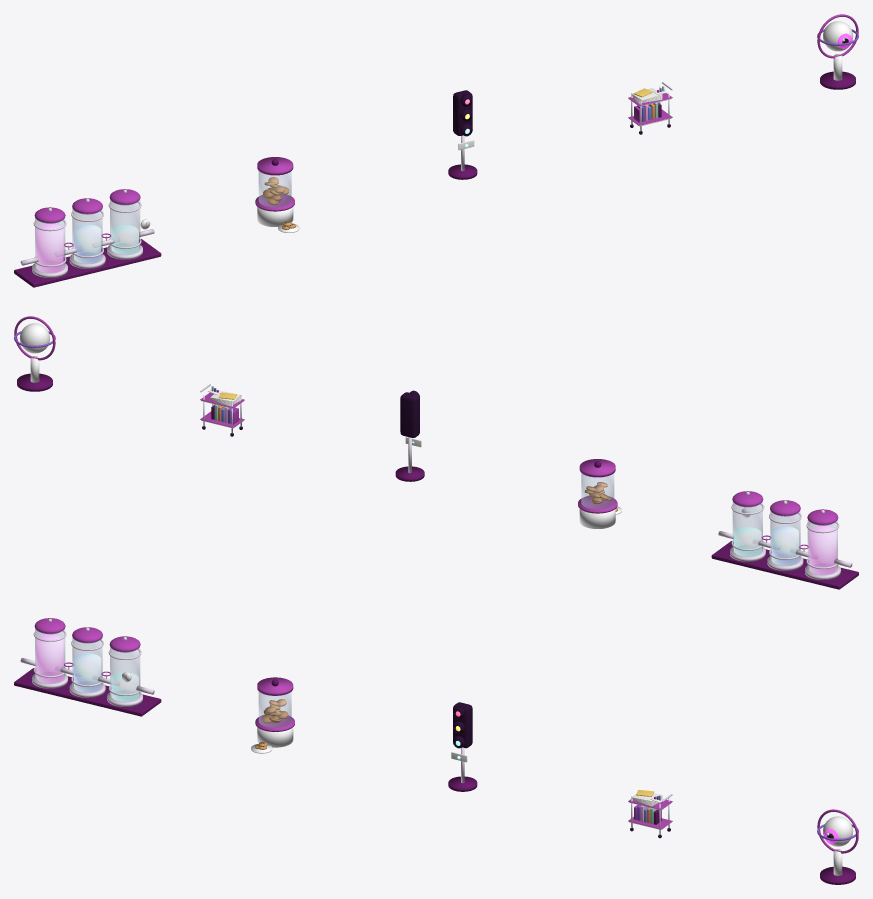
Rendered from data_b.glb.
The picture shows the model from 3 angles, top to bottom: view 1: azimuth 30°, elevation 25°; view 2: azimuth 150°, elevation 25°; view 3: azimuth 330°, elevation 25°; orthographic projection.
Parts seen in each view (by area): view 1: Skid, Tank2, Tank1, Tank0, Fill0, Jar, Fill1, Fill2, Eyeball, Pedestal, Lid, Housing; view 2: Skid, Tank2, Tank1, Tank0, Fill0, Jar, Fill1, Housing, Fill2, Eyeball, Pedestal, Lid; view 3: Skid, Tank1, Tank0, Tank2, Fill0, Jar, Fill1, Fill2, Eyeball, Pedestal, Housing, Lid.
Boxes of the visible parts, <box> form: Skid: <box>14,239,161,287</box>; Tank2: <box>110,199,140,254</box>; Tank1: <box>72,208,102,263</box>; Tank0: <box>35,217,65,273</box>; Fill0: <box>36,224,63,272</box>; Jar: <box>258,171,291,207</box>; Fill1: <box>74,224,101,263</box>; Fill2: <box>111,225,138,254</box>; Eyeball: <box>823,21,853,51</box>; Pedestal: <box>257,207,293,226</box>; Lid: <box>257,157,293,175</box>; Housing: <box>453,90,472,135</box>; Skid: <box>711,541,858,589</box>; Tank2: <box>732,501,762,556</box>; Tank1: <box>770,510,800,565</box>; Tank0: <box>807,519,837,575</box>; Fill0: <box>809,526,836,574</box>; Jar: <box>581,473,614,509</box>; Fill1: <box>771,526,798,565</box>; Housing: <box>400,392,419,437</box>; Fill2: <box>734,527,761,556</box>; Eyeball: <box>19,323,49,353</box>; Pedestal: <box>579,509,615,528</box>; Lid: <box>579,459,615,477</box>; Skid: <box>14,668,161,716</box>; Tank1: <box>72,637,102,692</box>; Tank0: <box>35,628,65,683</box>; Tank2: <box>110,646,140,702</box>; Fill0: <box>36,634,63,683</box>; Jar: <box>258,692,291,727</box>; Fill1: <box>74,653,101,692</box>; Fill2: <box>111,672,138,701</box>; Eyeball: <box>823,816,853,846</box>; Pedestal: <box>257,727,293,747</box>; Housing: <box>453,702,472,748</box>; Lid: <box>257,677,293,695</box>.
Size of the model in its own units: 26.76 by 2.49 by 1.63.
